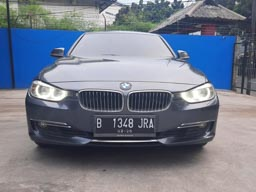plat: (95, 116, 156, 128)
